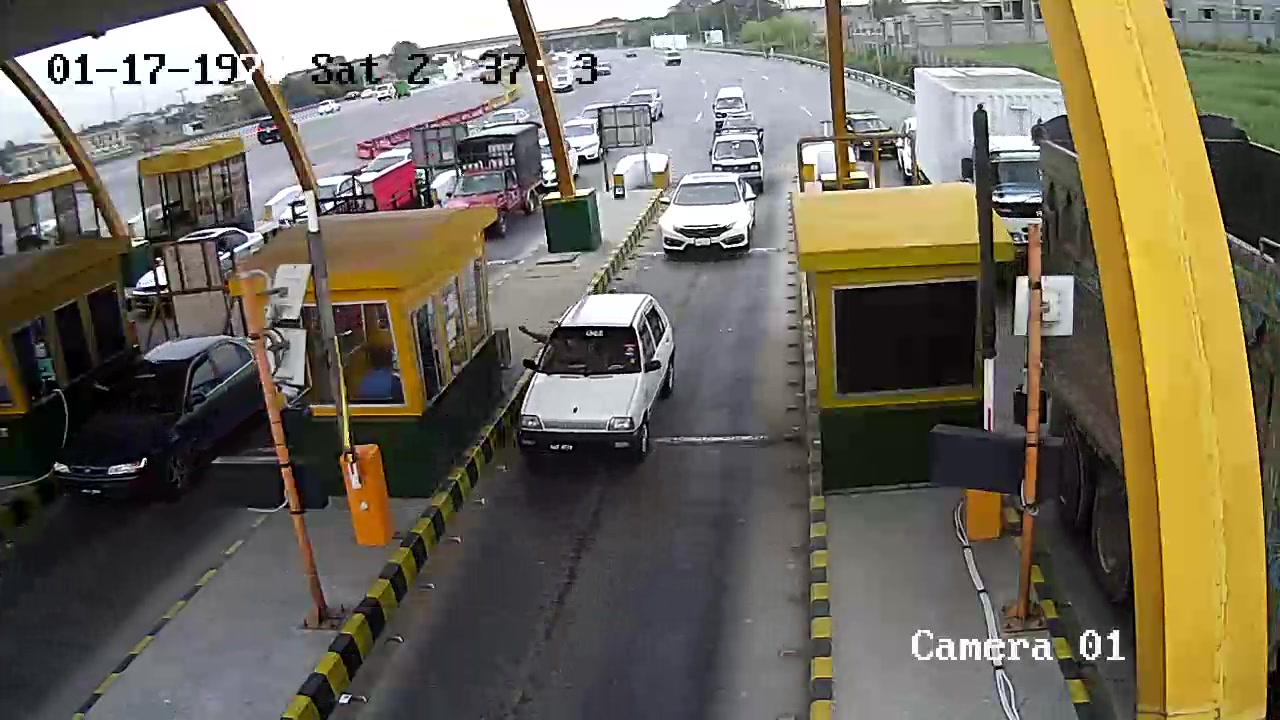F1: (510, 284, 693, 472), (655, 173, 761, 265)
